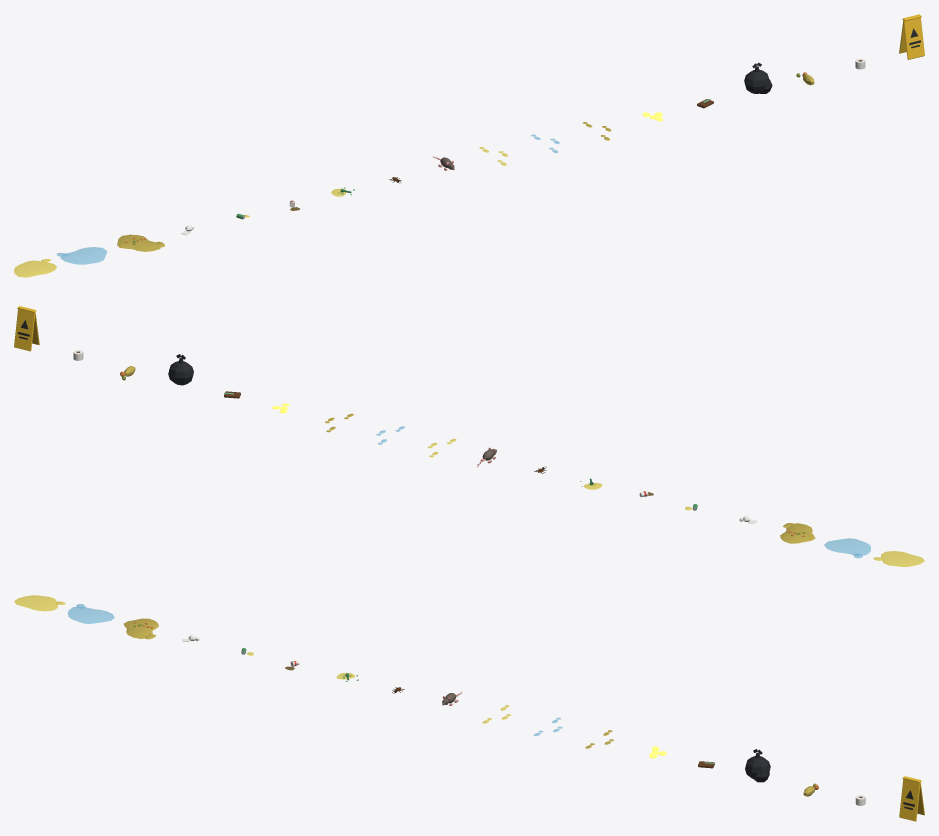
File: props.glb
3 views of the same model, one above another, from view 1: azimuth 30°, elevation 25°; view 2: azimuth 150°, elevation 25°; view 3: azimuth 330°, elevation 25° (orthographic).
Parts seen in each view (by area): view 1: wet_sign, puddle_water, bin_bag, vomit, puddle_pee; view 2: wet_sign, puddle_water, puddle_pee, vomit, bin_bag; view 3: wet_sign, puddle_water, bin_bag, vomit, puddle_pee.
Boxes of the visible parts, bbox=[...] form: wet_sign: bbox=[899, 14, 924, 59]; puddle_water: bbox=[56, 247, 107, 264]; bin_bag: bbox=[744, 62, 772, 93]; vomit: bbox=[117, 234, 164, 251]; puddle_pee: bbox=[14, 259, 56, 277]; wet_sign: bbox=[14, 306, 39, 351]; puddle_water: bbox=[824, 538, 871, 558]; puddle_pee: bbox=[873, 551, 924, 566]; vomit: bbox=[780, 523, 815, 543]; bin_bag: bbox=[168, 354, 193, 385]; wet_sign: bbox=[899, 776, 924, 821]; puddle_water: bbox=[68, 604, 114, 623]; bin_bag: bbox=[745, 749, 770, 782]; vomit: bbox=[123, 618, 158, 639]; puddle_pee: bbox=[14, 595, 65, 611].
Size of the model in its own units: 15.8 by 0.698 by 0.7731.
